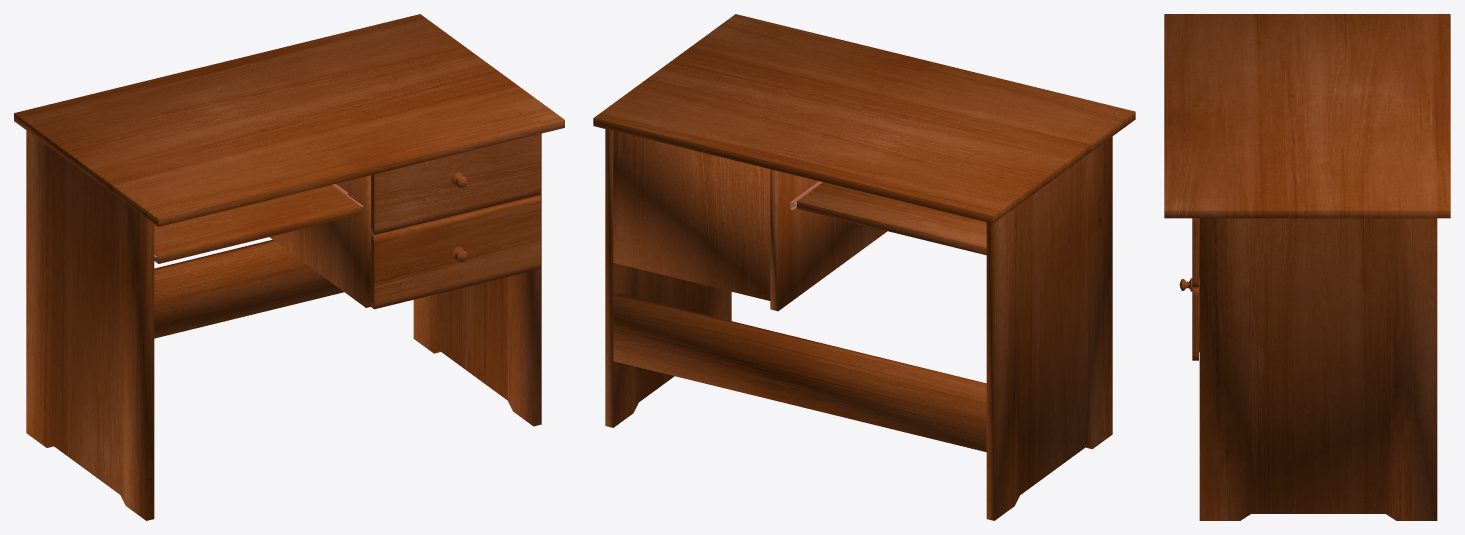
The model's file is kids_wooden_desk.fbx.
3 views of the same model, side by side, from view 1: azimuth 30°, elevation 25°; view 2: azimuth 150°, elevation 25°; view 3: azimuth 270°, elevation 25° (orthographic).
Parts seen in each view (by area): view 1: table, Cube_002, Cube_001, suf; view 2: table, suf; view 3: table, Cube_002, Cube_001.
Part boxes in pixels (<box>): table: <box>14,14,564,520</box>; Cube_002: <box>371,195,540,309</box>; Cube_001: <box>371,134,540,234</box>; suf: <box>154,185,361,263</box>; table: <box>593,14,1135,520</box>; suf: <box>796,182,986,255</box>; table: <box>1164,14,1450,520</box>; Cube_002: <box>1192,279,1199,360</box>; Cube_001: <box>1192,218,1199,287</box>.
Bounding box in the file's own units: 10.04 × 7.46 × 6.18.
Materials: 3 (1 with a texture image).
